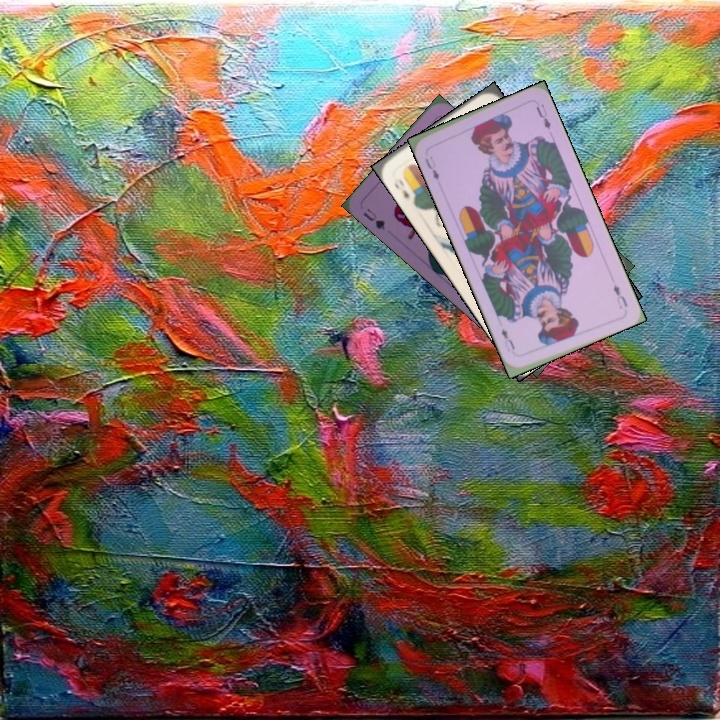EO: (390, 174, 413, 201)
EU: (421, 152, 442, 183), (609, 280, 630, 311)
GU: (359, 204, 388, 232)
